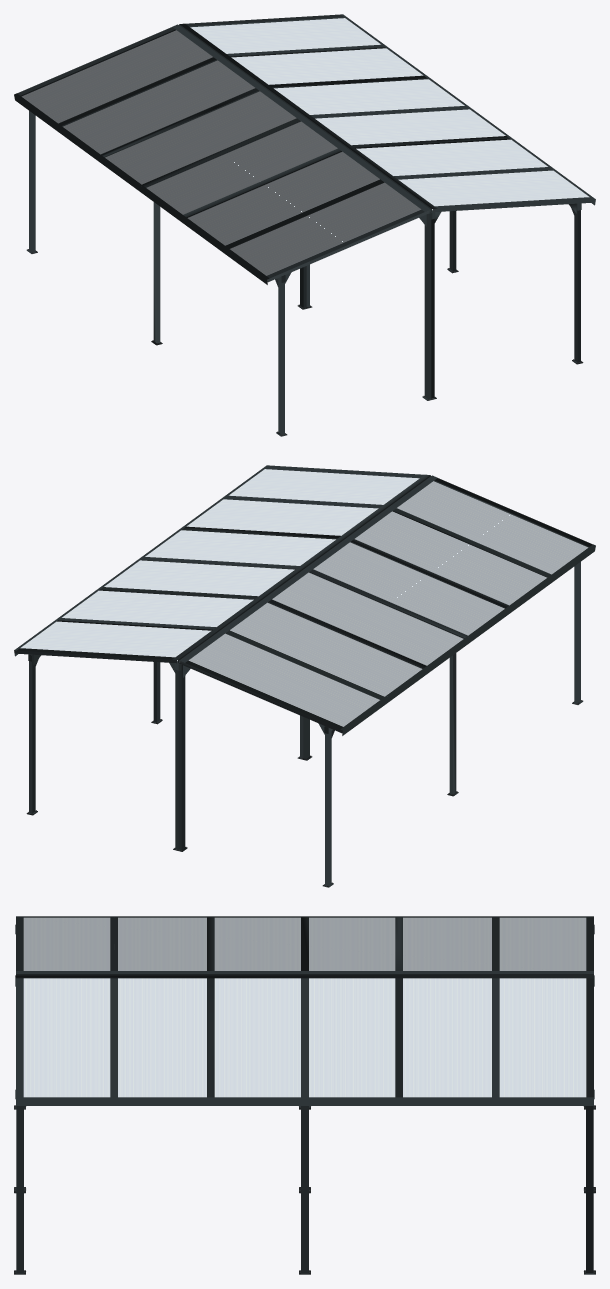
3 views of the same model, one above another, from view 1: azimuth 30°, elevation 25°; view 2: azimuth 150°, elevation 25°; view 3: azimuth 270°, elevation 25° (orthographic). The views are drawn at different scales.
Visible parts, largest first — view 1: priximbattable_net_abris_de_voiture_13476_carport_double_alu; view 2: priximbattable_net_abris_de_voiture_13476_carport_double_alu; view 3: priximbattable_net_abris_de_voiture_13476_carport_double_alu.
Part boxes in pixels (box(x1,y1,x2,y2)): priximbattable_net_abris_de_voiture_13476_carport_double_alu: box(14, 14, 595, 436); priximbattable_net_abris_de_voiture_13476_carport_double_alu: box(14, 465, 595, 887); priximbattable_net_abris_de_voiture_13476_carport_double_alu: box(14, 916, 595, 1274).
Bounding box in the file's own units: 450 × 248 × 603.
Materials: 1 (1 with a texture image).
